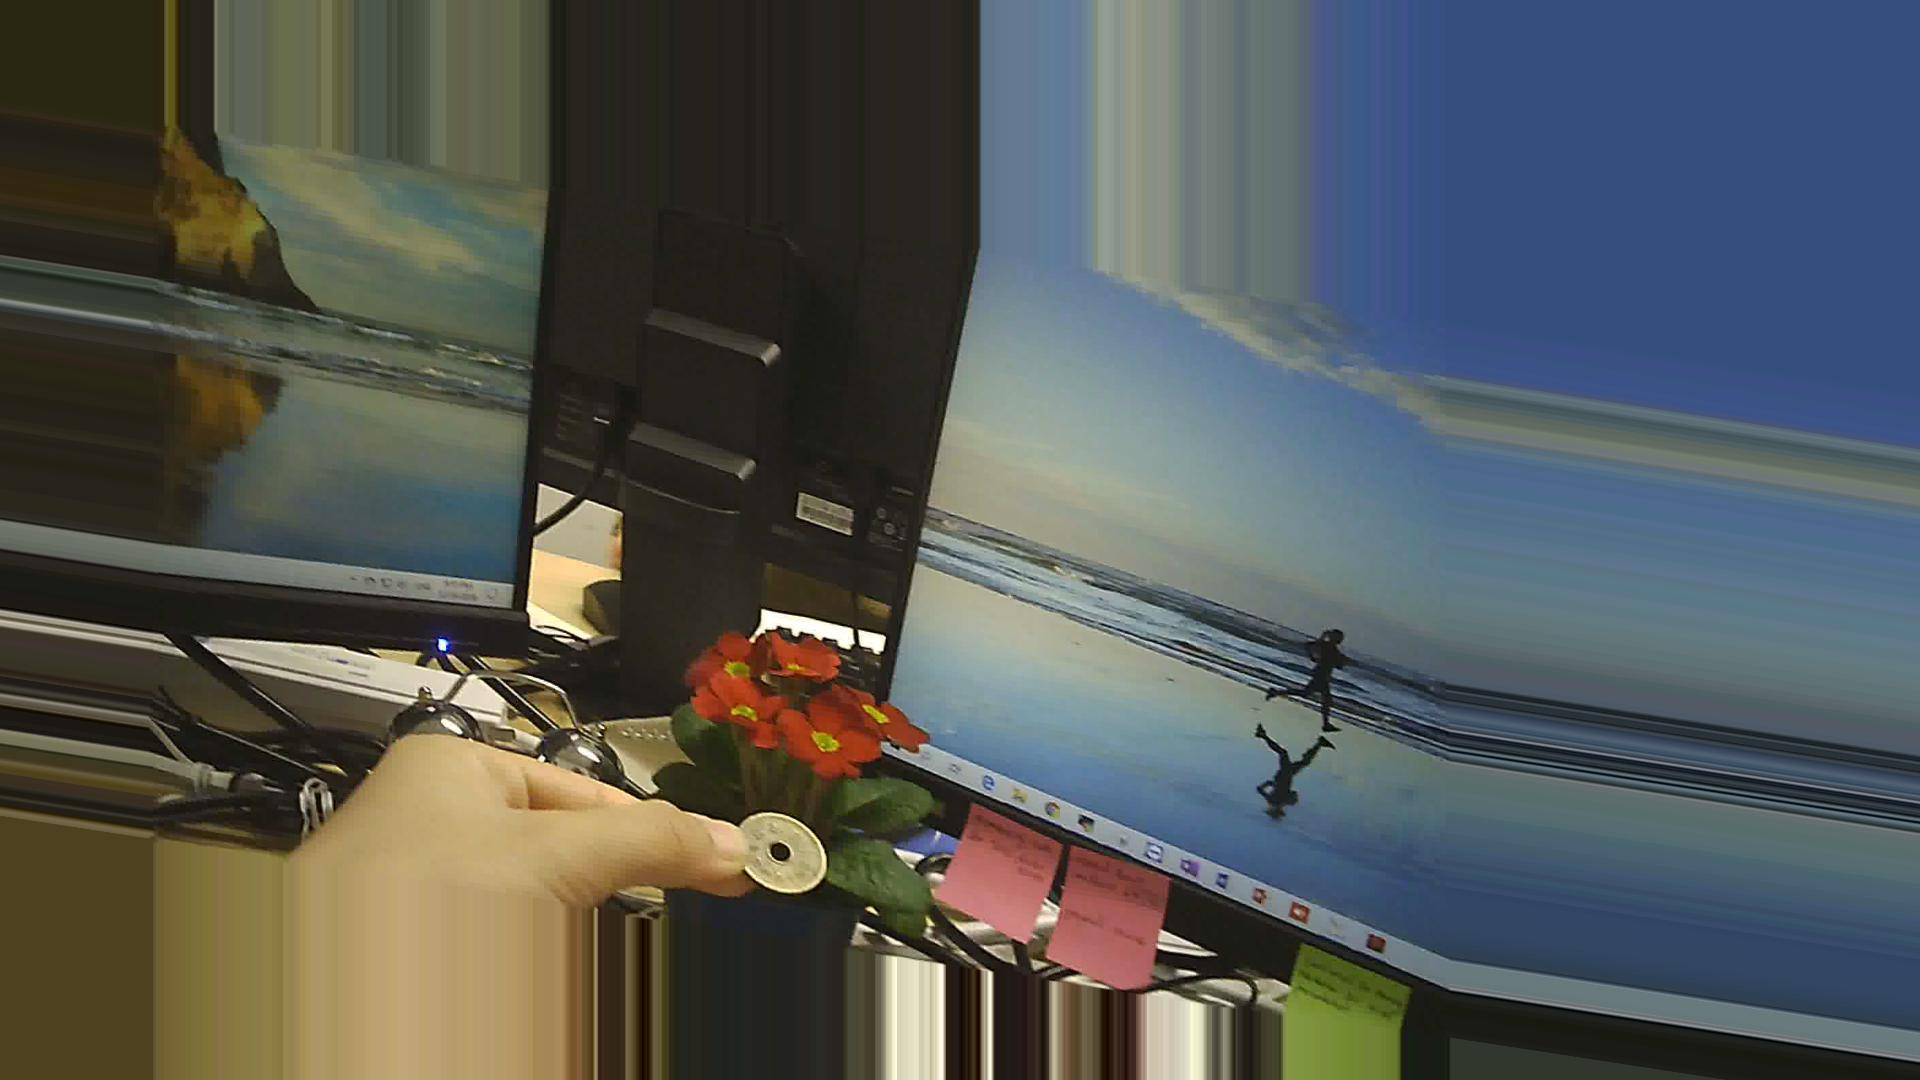5 Yen: (731, 799, 837, 906)
